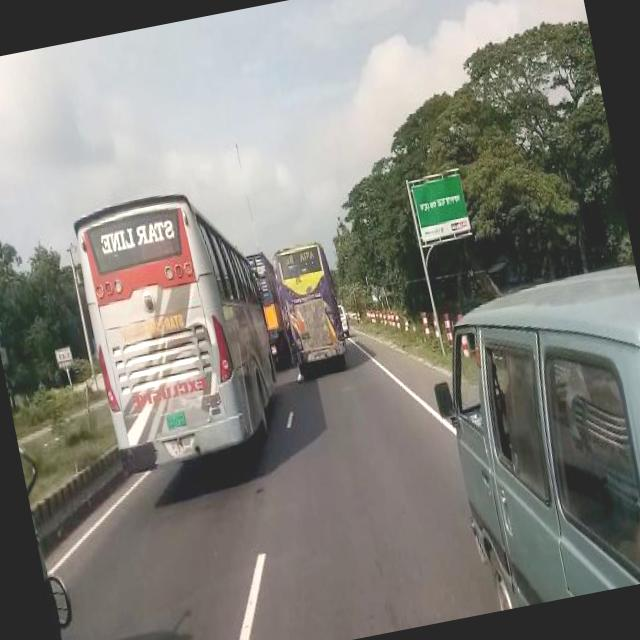bus: (70, 184, 290, 480), (270, 236, 349, 372)
truck: (417, 253, 640, 611), (248, 245, 290, 362)
